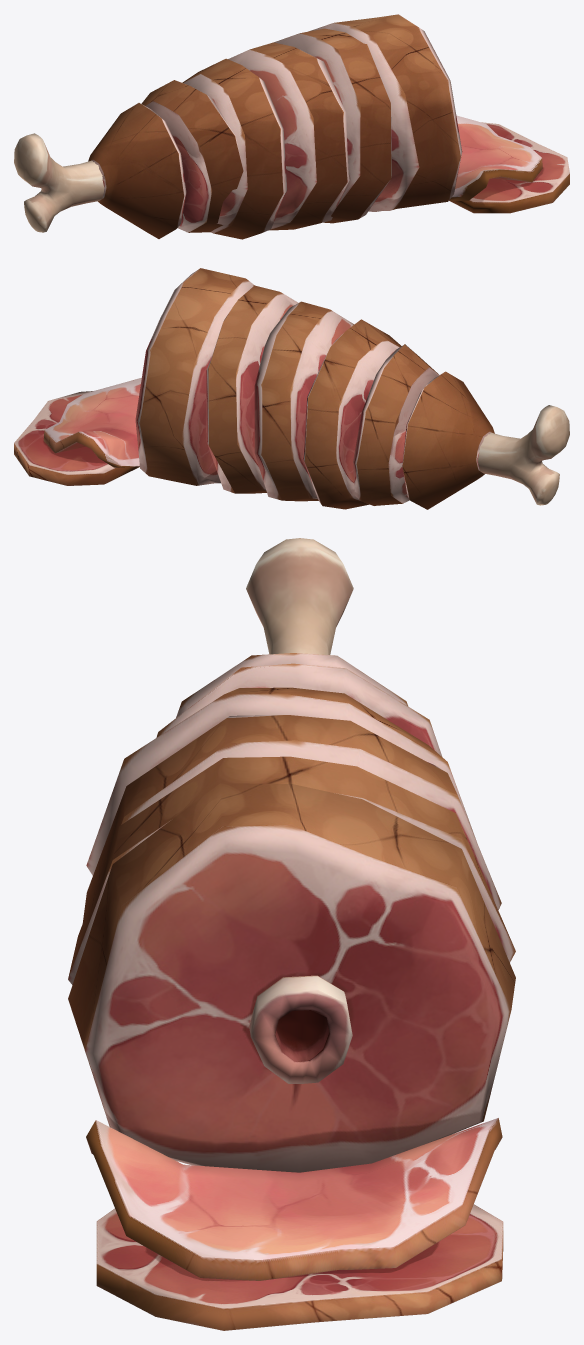
File: cuted_boti.fbx
3 views of the same model, one above another, from view 1: azimuth 30°, elevation 25°; view 2: azimuth 150°, elevation 25°; view 3: azimuth 270°, elevation 25° (orthographic). The views are drawn at different scales.
Parts seen in each view (by area): view 1: Meat.002, Meat.004, Meat.005, Meat.003, Meat.007, Meat.006, Bone, Meat.001, Meat; view 2: Meat.002, Meat.004, Meat.003, Meat.005, Meat.007, Meat.006, Meat.001, Bone, Meat; view 3: Meat.002, Meat.001, Meat, Bone, Meat.004, Meat.003, Meat.005, Meat.006, Meat.007.
Boxes of the visible parts, bbox=[...] form: Meat.002: bbox=[308, 14, 462, 211]; Meat.004: bbox=[228, 42, 349, 230]; Meat.005: bbox=[182, 58, 287, 239]; Meat.003: bbox=[274, 28, 391, 223]; Meat.007: bbox=[88, 103, 186, 238]; Meat.006: bbox=[141, 80, 243, 232]; Bone: bbox=[14, 133, 104, 232]; Meat.001: bbox=[450, 115, 542, 201]; Meat: bbox=[449, 122, 569, 213]; Meat.002: bbox=[135, 268, 254, 485]; Meat.004: bbox=[254, 301, 353, 501]; Meat.003: bbox=[206, 285, 298, 493]; Meat.005: bbox=[302, 319, 401, 509]; Meat.007: bbox=[402, 371, 494, 509]; Meat.006: bbox=[353, 344, 438, 505]; Meat.001: bbox=[43, 377, 141, 467]; Bone: bbox=[477, 405, 569, 505]; Meat: bbox=[14, 391, 139, 485]; Meat.002: bbox=[68, 783, 515, 1172]; Meat.001: bbox=[86, 1118, 502, 1280]; Meat: bbox=[96, 1204, 503, 1330]; Bone: bbox=[246, 538, 353, 1083]; Meat.004: bbox=[83, 715, 501, 922]; Meat.003: bbox=[68, 756, 515, 984]; Meat.005: bbox=[86, 687, 476, 875]; Meat.006: bbox=[156, 663, 442, 756]; Meat.007: bbox=[176, 653, 408, 717].
Bounding box in the file's own units: 89.45 × 29.03 × 32.94.
Materials: 1 (1 with a texture image).
